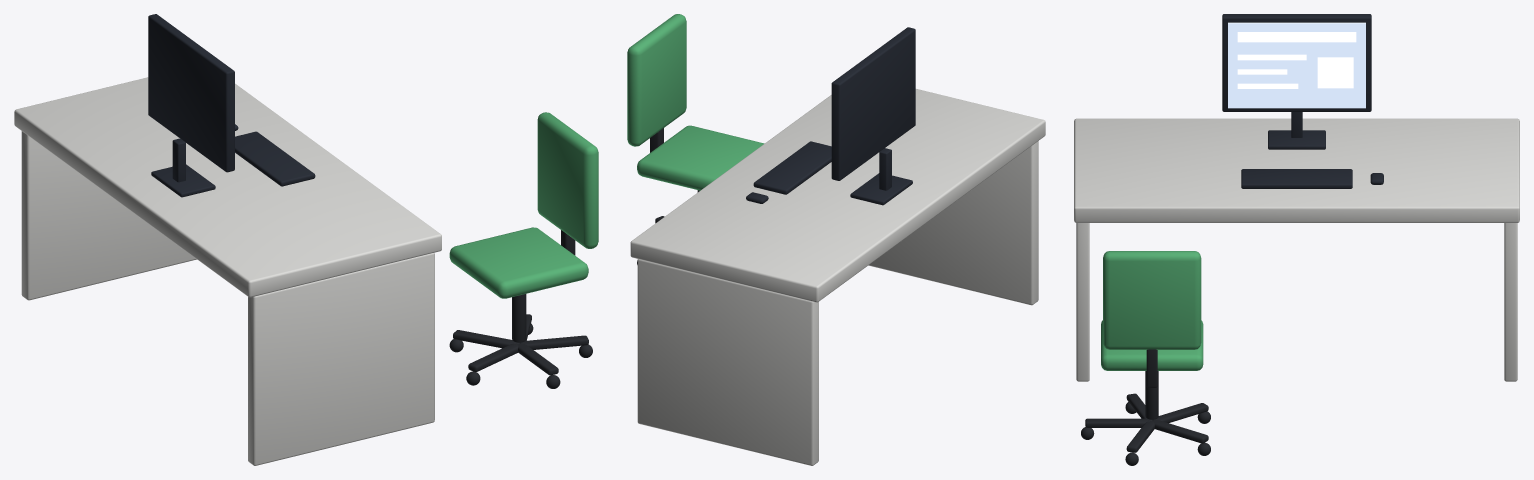
File: station-code.glb
3 renders of one model, left to right at view 1: azimuth 30°, elevation 25°; view 2: azimuth 150°, elevation 25°; view 3: azimuth 270°, elevation 25°, orthographic. The views are drawn at different scales.
Visible parts, largest first — view 1: DeskTop.001, PanelLeg.002, PanelLeg.003, MonitorFrame.001, ChairBack, ChairSeat, Keyboard.001, MonitorFoot.001, ChairPost, ChairLeg.001, ChairLeg.003; view 2: DeskTop.001, PanelLeg.003, PanelLeg.002, MonitorFrame.001, ChairBack, ChairSeat, Keyboard.001, MonitorFoot.001, MonitorNeck.001; view 3: DeskTop.001, ChairBack, Screen.001, MonitorFrame.001, Keyboard.001, PanelLeg.002, PanelLeg.003, ChairSeat, UiHeader.001, UiBlock.001, MonitorFoot.001, ChairLeg (+5 smaller).
Part boxes in pixels (bbox=[...]): DeskTop.001: bbox=[14, 77, 441, 297]; PanelLeg.002: bbox=[248, 252, 434, 465]; PanelLeg.003: bbox=[21, 131, 196, 300]; MonitorFrame.001: bbox=[148, 14, 234, 172]; ChairBack: bbox=[537, 112, 598, 248]; ChairSeat: bbox=[449, 227, 588, 298]; Keyboard.001: bbox=[235, 131, 315, 186]; MonitorFoot.001: bbox=[151, 164, 215, 197]; ChairPost: bbox=[512, 294, 526, 342]; ChairLeg.001: bbox=[519, 335, 588, 349]; ChairLeg.003: bbox=[453, 330, 518, 348]; DeskTop.001: bbox=[630, 89, 1045, 302]; PanelLeg.003: bbox=[637, 259, 818, 465]; PanelLeg.002: bbox=[868, 141, 1038, 305]; MonitorFrame.001: bbox=[831, 27, 915, 180]; ChairBack: bbox=[627, 14, 686, 146]; ChairSeat: bbox=[637, 125, 764, 190]; Keyboard.001: bbox=[753, 141, 831, 194]; MonitorFoot.001: bbox=[850, 173, 912, 205]; MonitorNeck.001: bbox=[879, 148, 891, 190]; DeskTop.001: bbox=[1074, 118, 1519, 222]; ChairBack: bbox=[1103, 251, 1201, 349]; Screen.001: bbox=[1228, 22, 1365, 108]; MonitorFrame.001: bbox=[1222, 14, 1371, 111]; Keyboard.001: bbox=[1241, 169, 1352, 188]; PanelLeg.002: bbox=[1076, 223, 1089, 381]; PanelLeg.003: bbox=[1504, 223, 1517, 381]; ChairSeat: bbox=[1101, 320, 1203, 370]; UiHeader.001: bbox=[1237, 32, 1356, 42]; UiBlock.001: bbox=[1317, 57, 1353, 88]; MonitorFoot.001: bbox=[1268, 130, 1325, 149]; ChairLeg: bbox=[1085, 418, 1151, 427].
Size of the model in its own units: 1.83 by 1.52 by 2.
